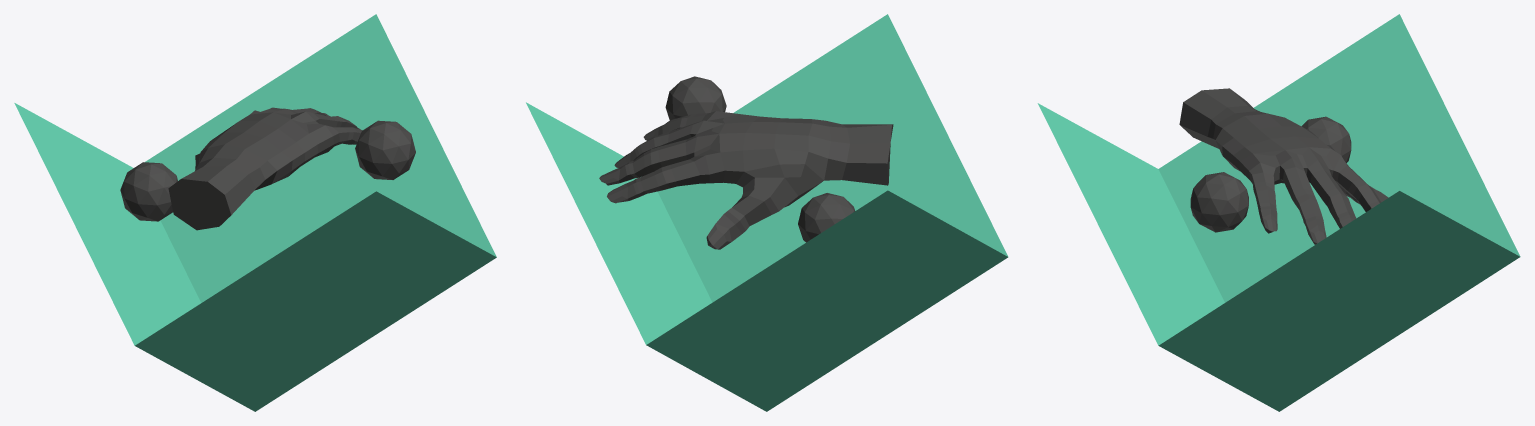
File: IconTilt.glb
The picture shows the model from 3 angles, left to right: view 1: azimuth 30°, elevation 25°; view 2: azimuth 150°, elevation 25°; view 3: azimuth 270°, elevation 25°; orthographic projection.
Parts seen in each view (by area): view 1: Plane005; view 2: Plane005; view 3: Plane005.
Part boxes in pixels (bbox=[...]): Plane005: bbox=[14, 14, 496, 411]; Plane005: bbox=[526, 14, 1008, 411]; Plane005: bbox=[1037, 14, 1520, 411].
Size of the model in its own units: 1.5 by 1.22 by 1.73.
